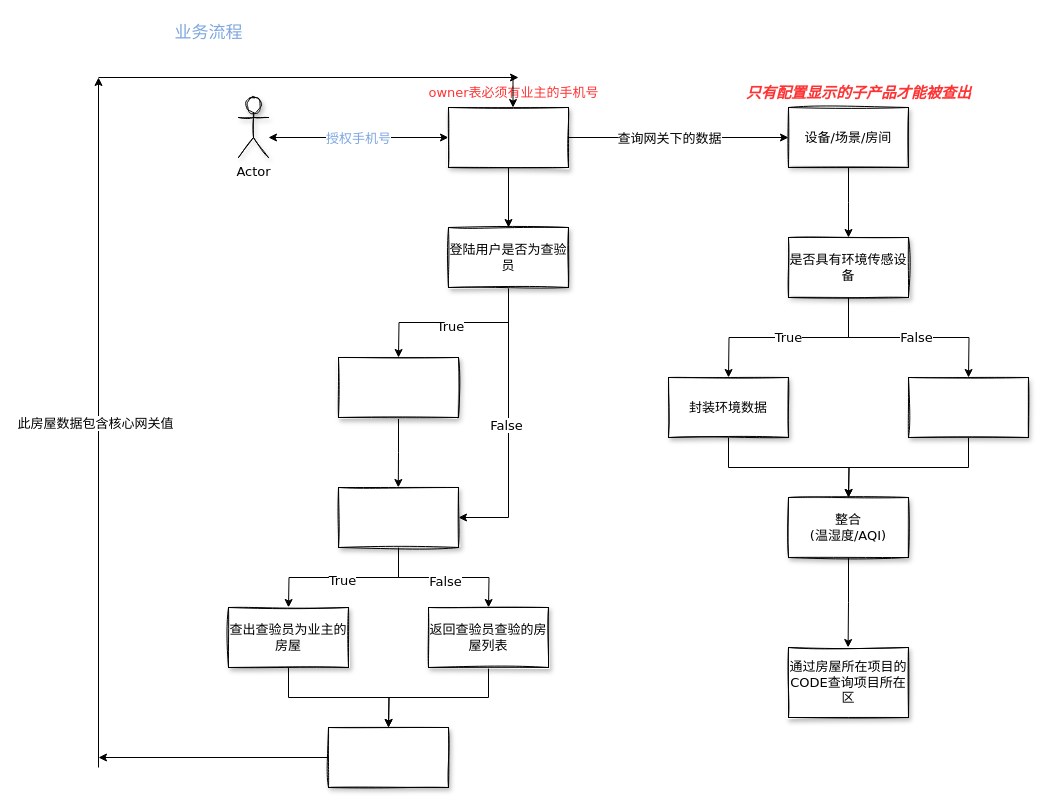
Image size: 1052x812. Some labels were removed from this diagram. The shapes that lost their labels are listed below. From the top down, each one's centre as x and y in pixels, then its label:
At (x=509, y=138): "通过手机号查找业主的房屋数据".
At (x=399, y=388): "查出查验员关联的房屋".
At (x=969, y=408): "调用高德Api环境数据".
At (x=399, y=518): "登陆用户是否为业主".
At (x=389, y=758): "合并房屋数据".
